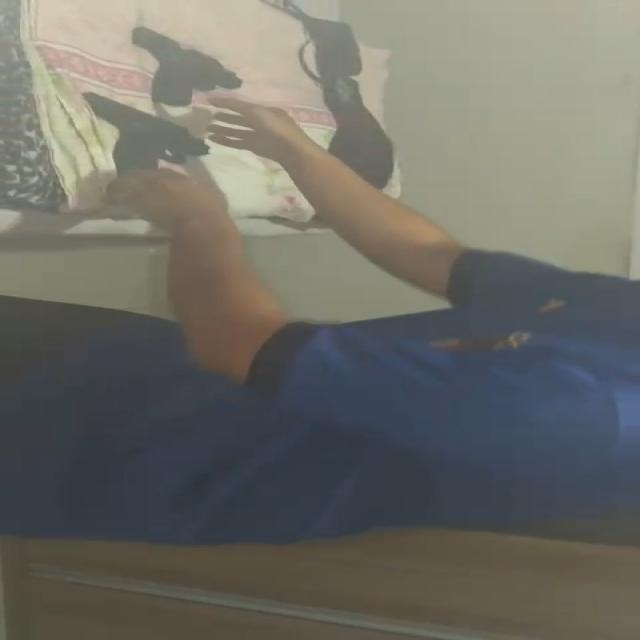guns: (85, 88, 213, 175), (128, 24, 247, 104)
